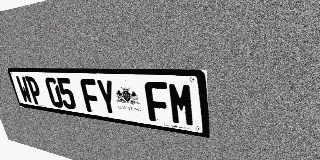0: (44, 77, 64, 108)
5: (56, 78, 77, 110)
F: (144, 81, 171, 124), (79, 79, 102, 114)
M: (167, 82, 196, 127)
P: (25, 76, 44, 105)
W: (15, 76, 33, 104)
Y: (95, 79, 119, 116)
